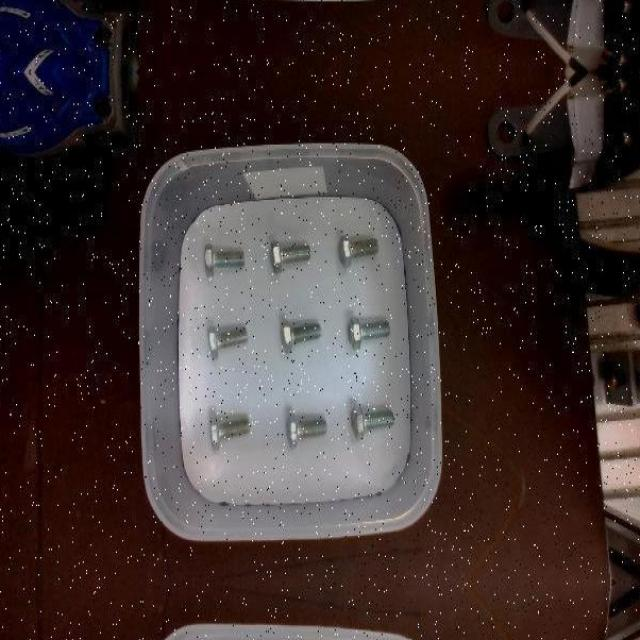screw: (351, 403, 394, 438), (209, 415, 251, 450), (206, 326, 249, 360), (270, 240, 312, 274), (339, 234, 380, 268), (349, 314, 390, 348), (282, 319, 322, 353), (287, 414, 327, 448), (205, 243, 246, 276)
